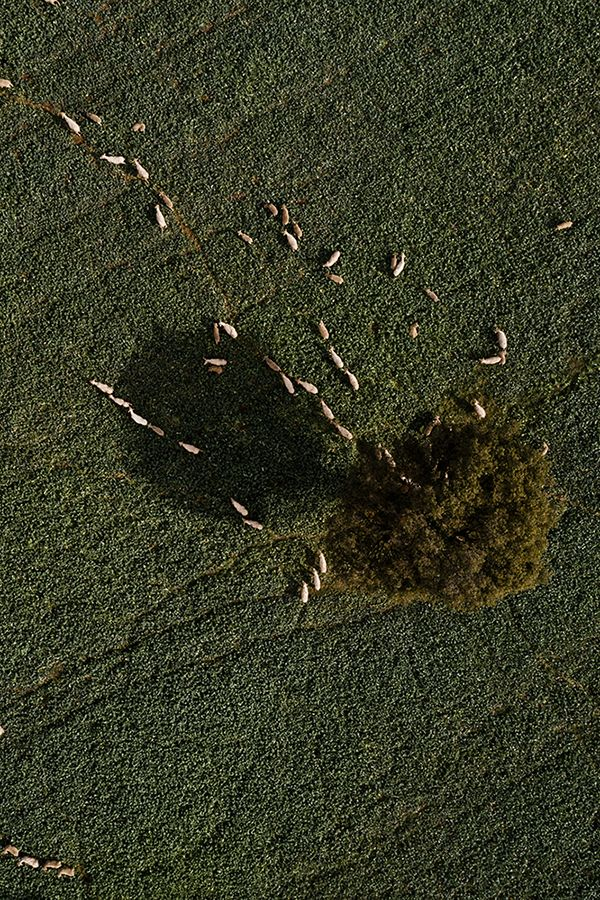sheep: (248, 351, 284, 378), (324, 346, 352, 374), (493, 322, 514, 359), (173, 438, 207, 460), (324, 249, 346, 282), (122, 407, 155, 429), (329, 417, 354, 445), (417, 284, 442, 310), (295, 377, 319, 404), (314, 398, 338, 425), (314, 317, 337, 345), (56, 109, 81, 134), (213, 318, 242, 339), (92, 380, 121, 401), (310, 564, 330, 594), (60, 859, 80, 888), (234, 514, 259, 537), (276, 372, 298, 398), (553, 215, 581, 235), (43, 852, 62, 881), (130, 156, 148, 186), (206, 323, 226, 350), (84, 111, 106, 135), (206, 354, 233, 373), (317, 550, 335, 578), (298, 583, 316, 611), (103, 390, 128, 410), (385, 254, 405, 278), (151, 205, 167, 235), (476, 356, 504, 373), (227, 494, 247, 517), (472, 400, 489, 427), (98, 151, 125, 167), (284, 228, 301, 252), (342, 370, 361, 391), (15, 854, 32, 877), (233, 228, 258, 243), (143, 422, 163, 440), (270, 200, 284, 224), (1, 845, 22, 860), (330, 274, 350, 289), (157, 190, 171, 211), (280, 203, 290, 229), (291, 224, 302, 246)
